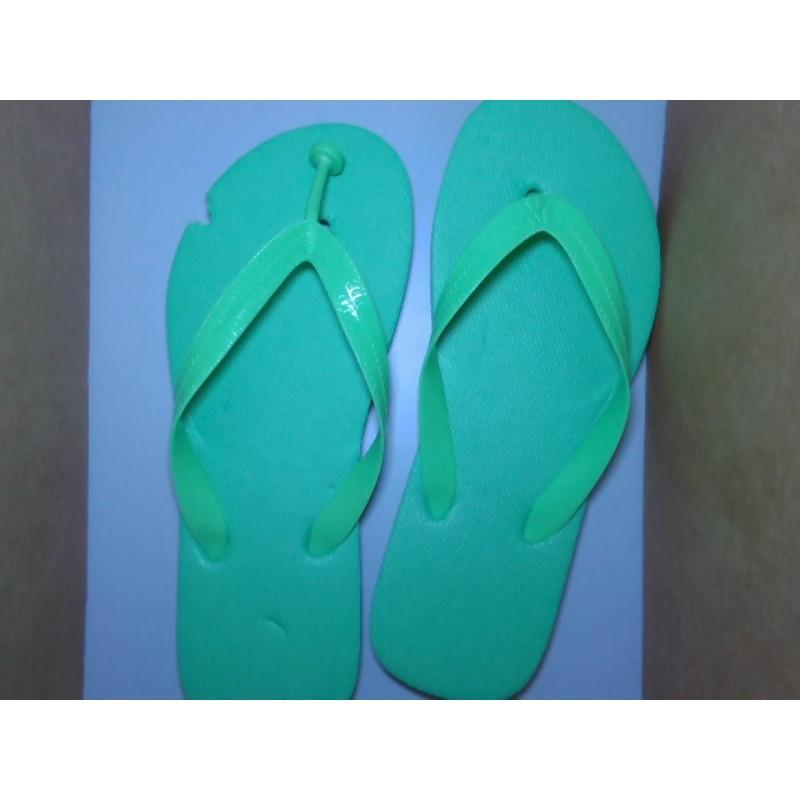chipped: (170, 181, 228, 246)
detached: (301, 132, 358, 193)
